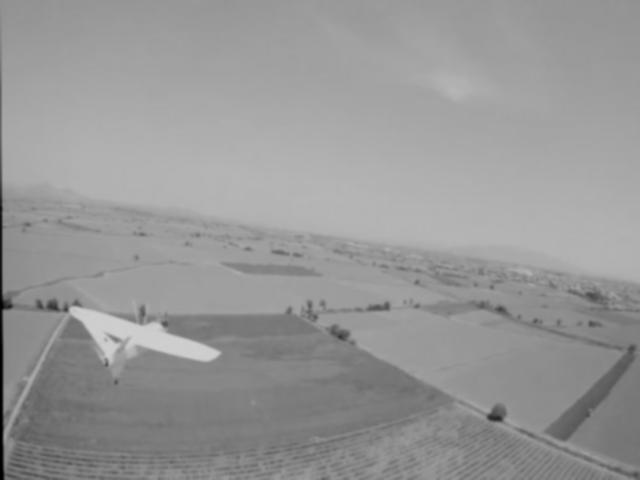hedef: (63, 294, 223, 386)
